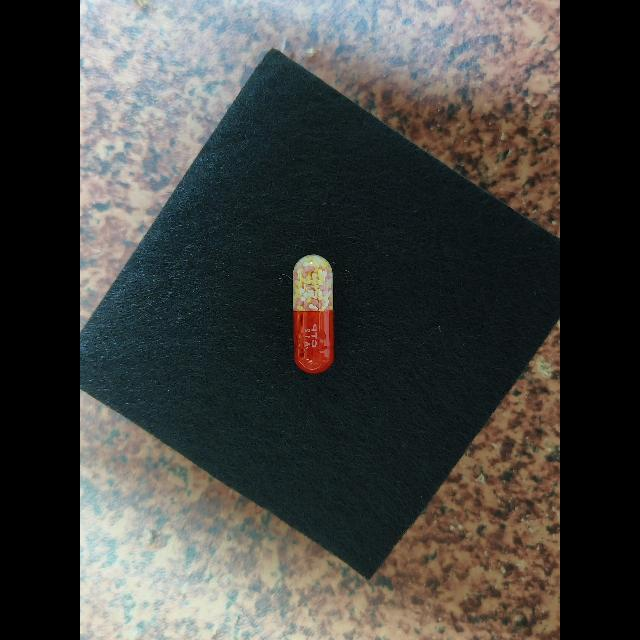Intact Capsule: (293, 254, 334, 374)
